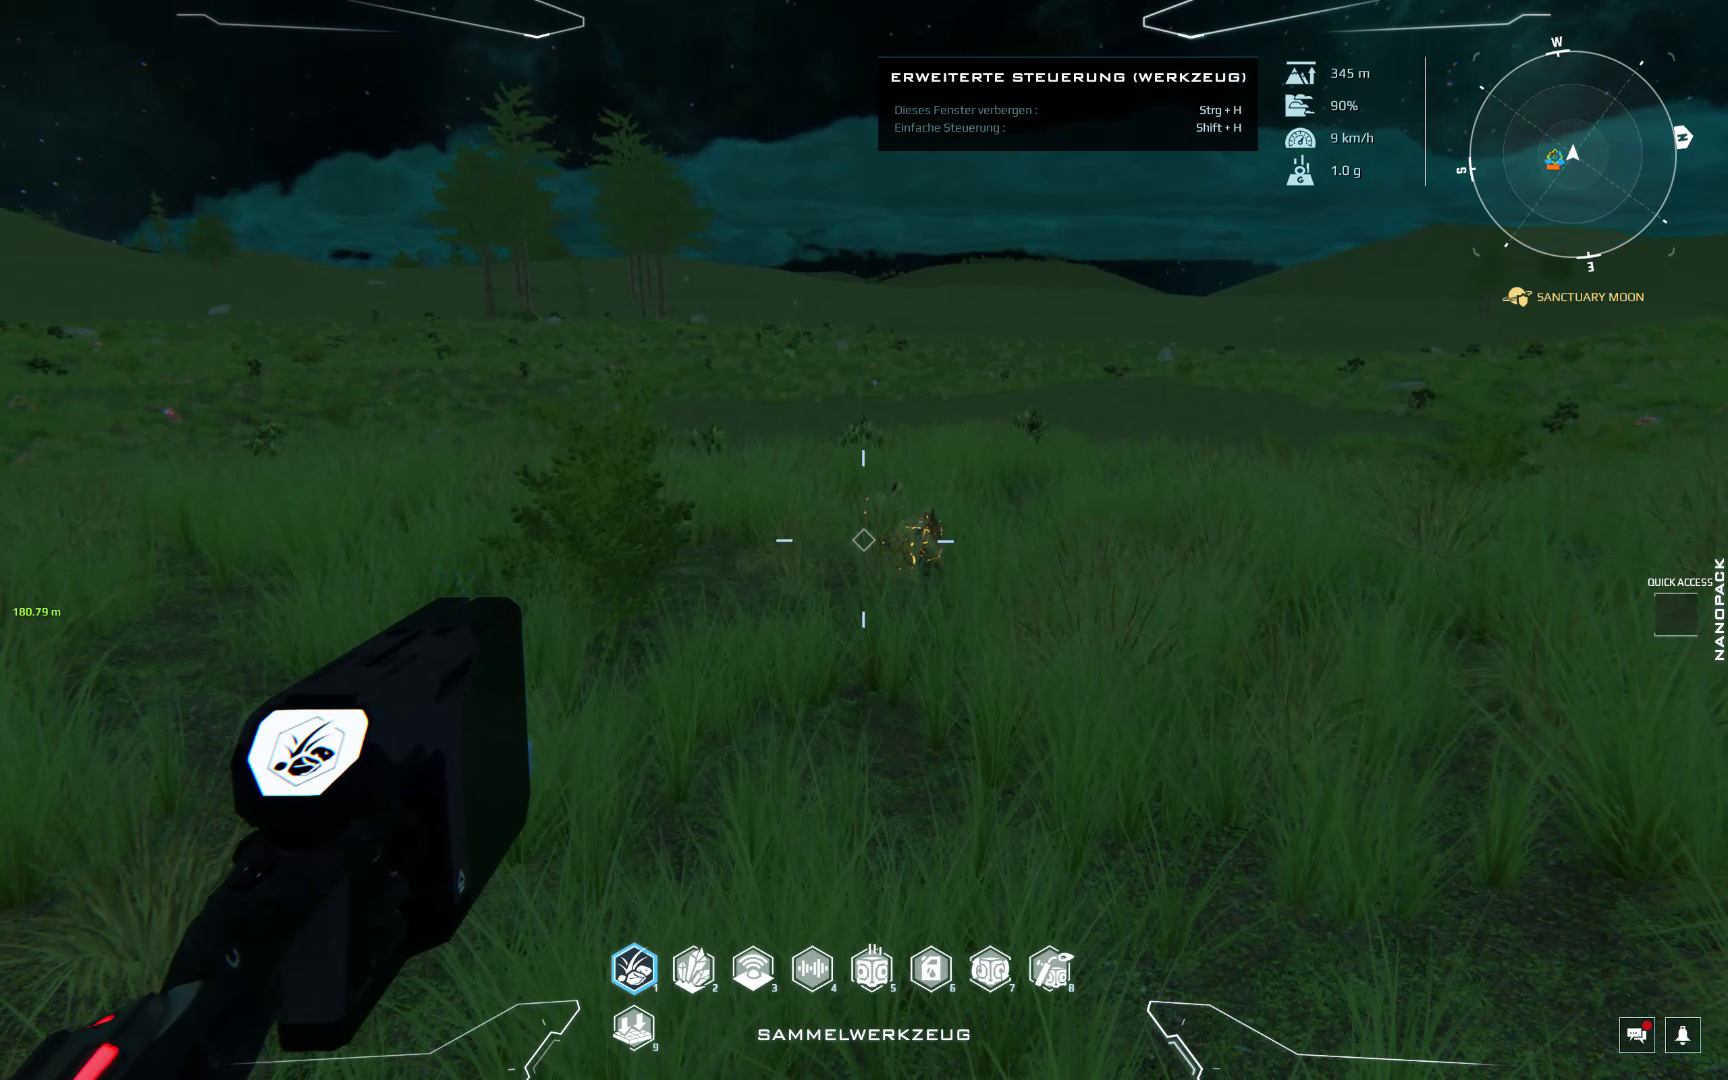Ore: (880, 510, 952, 580), (852, 480, 899, 528)
